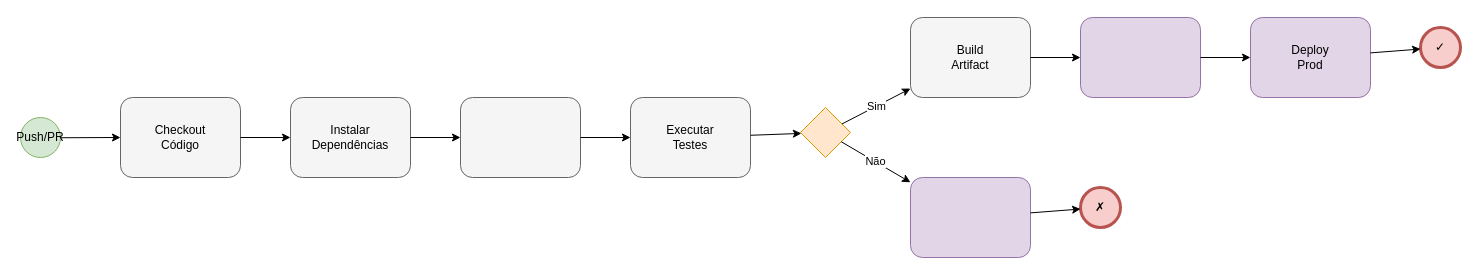
The diagram is 1479 pixels wide and 275 high, and some of its shapes have lost their labels. Each missing label, with the centre of its shape:
Deploy Staging: point (1140, 57)
Lint & Format: point (520, 137)
Notificar Falha: point (970, 217)
Testes OK?: point (825, 132)
